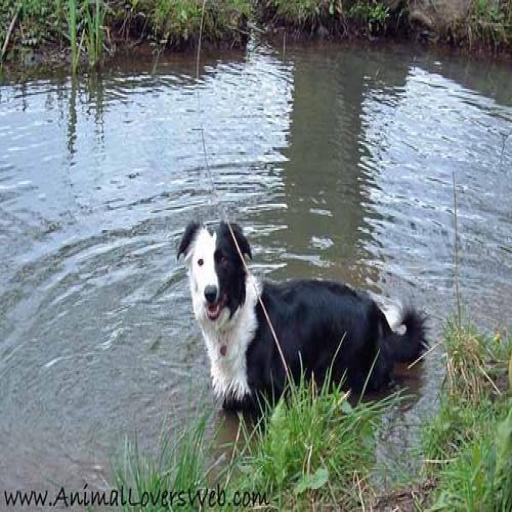dog_face: (179, 222, 252, 324)
